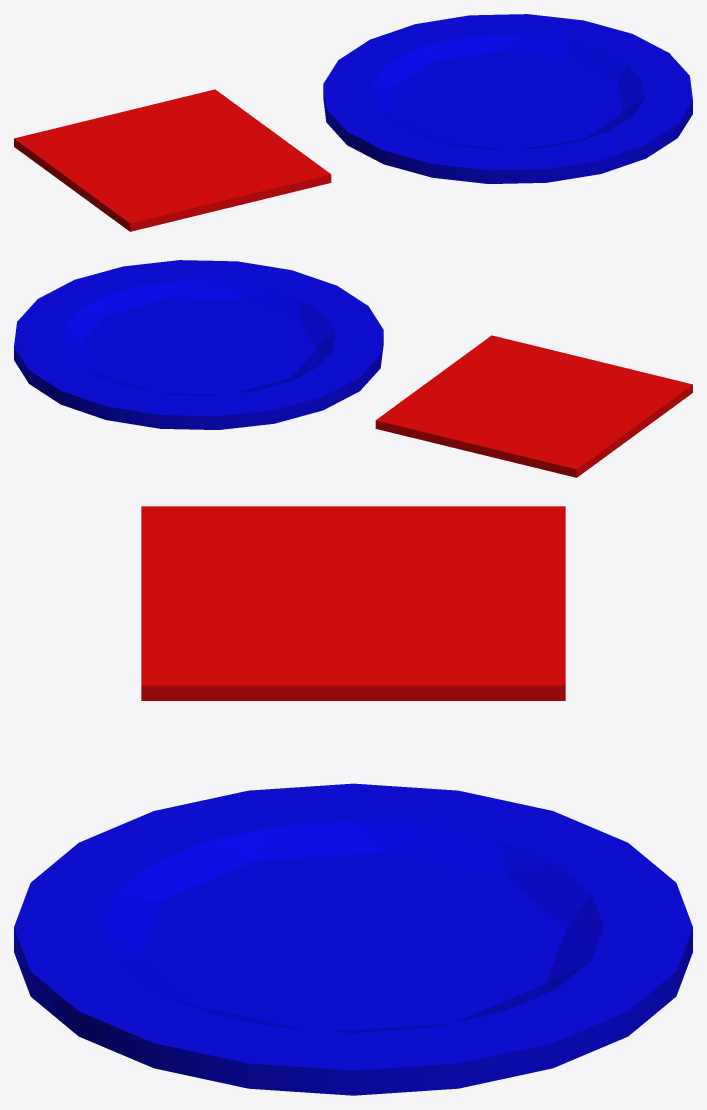
File: nori_low_explosion.fbx
3 renders of one model, top to bottom at view 1: azimuth 30°, elevation 25°; view 2: azimuth 150°, elevation 25°; view 3: azimuth 270°, elevation 25°, orthographic. The views are drawn at different scales.
Visible parts, largest first — view 1: polySurface2, polySurface3; view 2: polySurface2, polySurface3; view 3: polySurface2, polySurface3.
Part boxes in pixels (bbox=[...]): polySurface2: bbox=[323, 14, 692, 183]; polySurface3: bbox=[14, 89, 331, 231]; polySurface2: bbox=[14, 260, 383, 429]; polySurface3: bbox=[375, 335, 692, 477]; polySurface2: bbox=[14, 783, 692, 1095]; polySurface3: bbox=[141, 506, 565, 700].
Bounding box in the file's own units: 1.78 × 0.0896 × 0.96.
